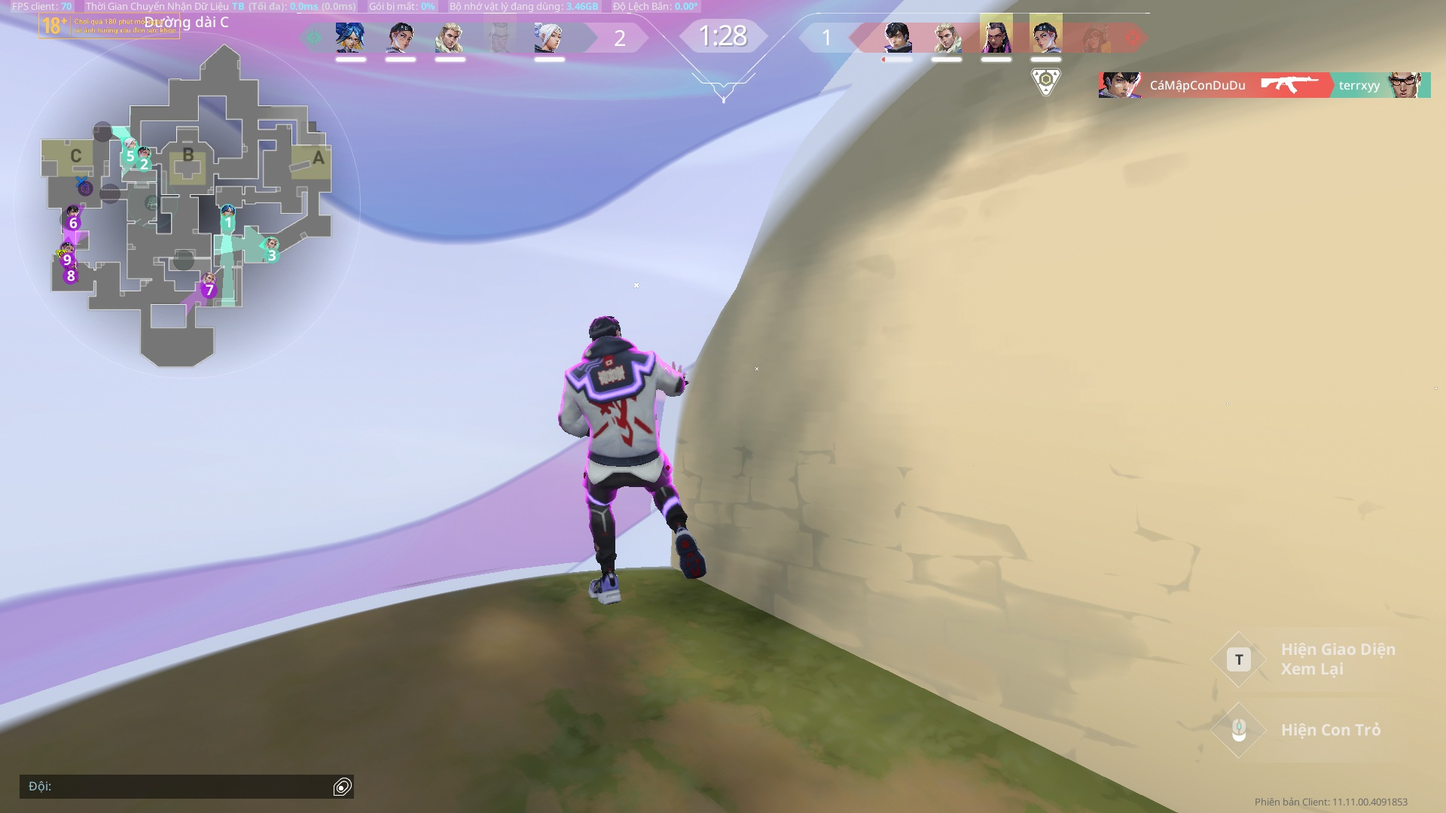body: (558, 343, 666, 454)
head: (584, 313, 627, 350)
